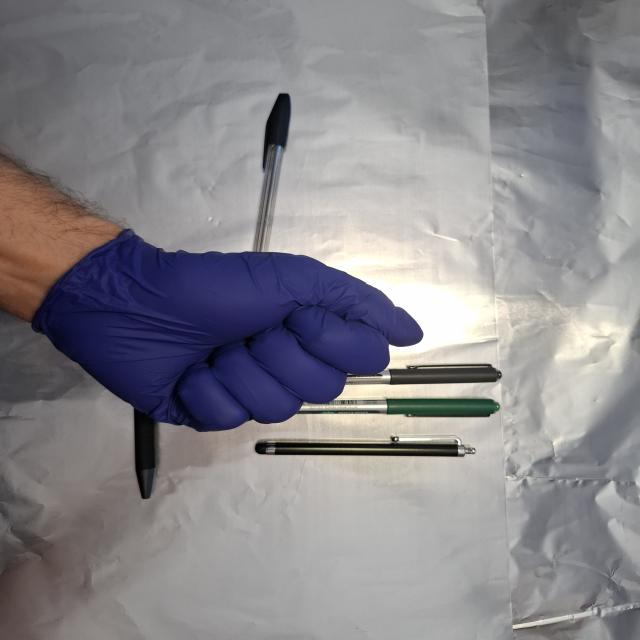glove_on: (30, 228, 426, 434)
